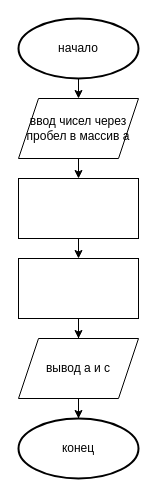
This 156x496 diagram has some shape labels left out. The centre of each missing label's shape, as x and y in pixels:
"сортировка массива данных" goes at point 78,208.
"счет количества наименьшего числа в букву с" goes at point 78,288.
